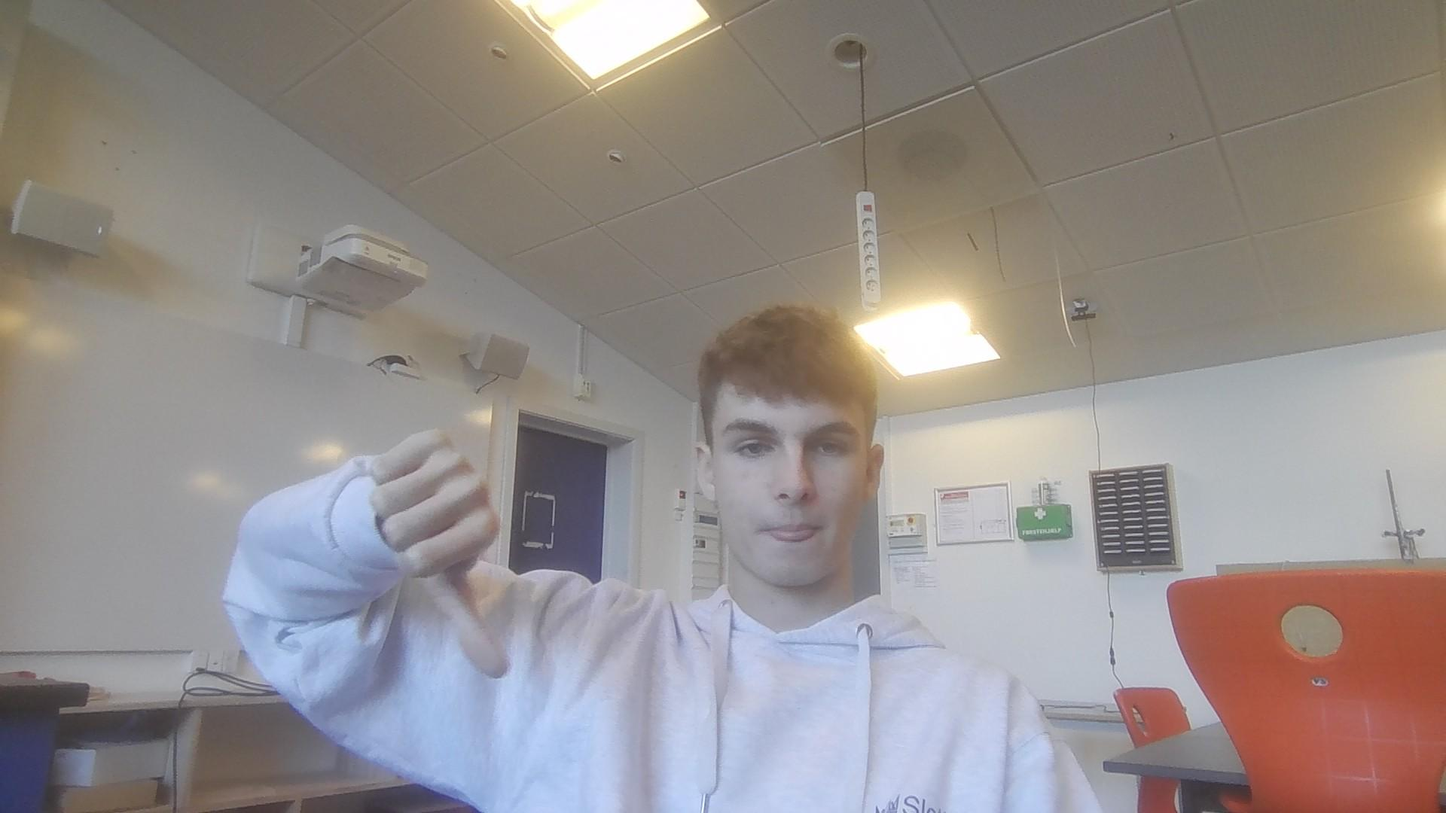thumbs down: (379, 423, 527, 690)
